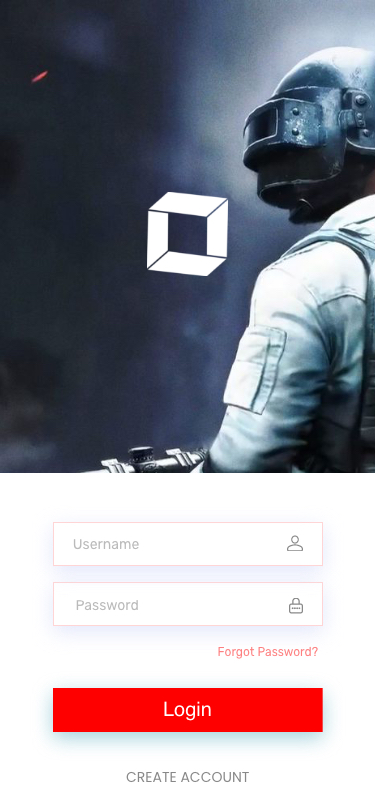EditText: (53, 523, 323, 567), (53, 582, 323, 626)
Icon: (287, 535, 303, 552), (289, 598, 303, 614)
Image: (1, 1, 375, 473), (147, 192, 229, 278)
Text: (126, 771, 249, 782), (218, 647, 319, 660), (74, 539, 140, 550), (77, 600, 139, 611)
TextButton: (53, 688, 323, 732)
